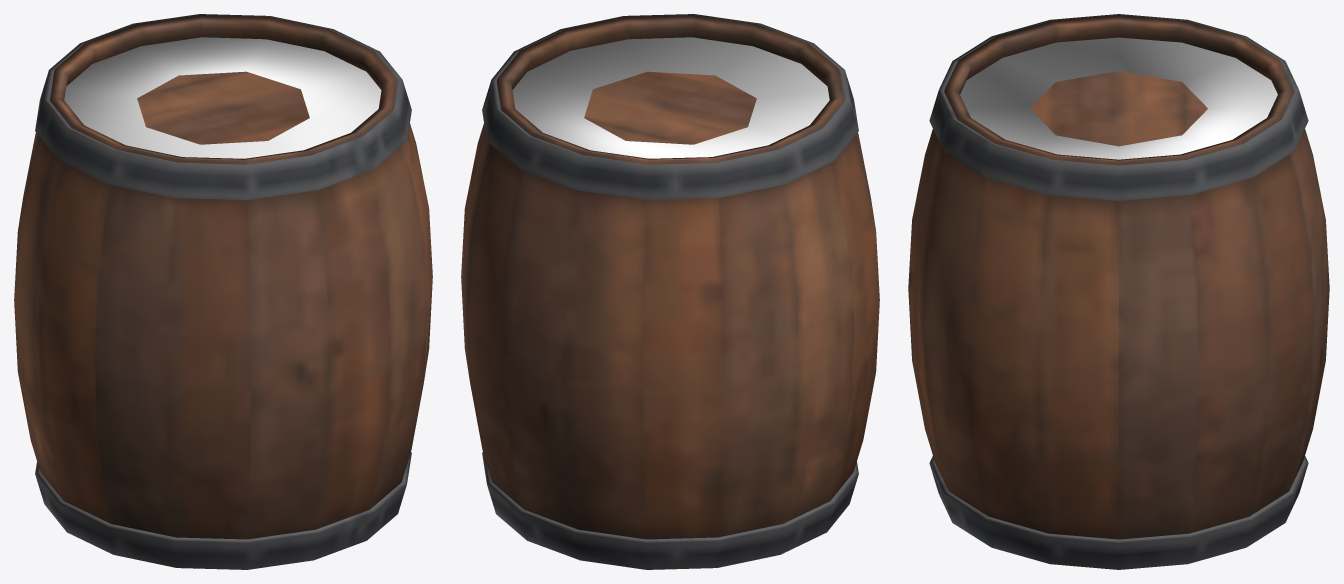
The model's file is objects_un_barrel01.gltf.
3 renders of one model, left to right at view 1: azimuth 30°, elevation 25°; view 2: azimuth 150°, elevation 25°; view 3: azimuth 270°, elevation 25°, orthographic.
Parts seen in each view (by area): view 1: um_objects_un_barrel01_model_lod0Shape:objects_un_barrel01_w, um_objects_un_barrel01_model_lod0Shape:objects_un_barrel01_s; view 2: um_objects_un_barrel01_model_lod0Shape:objects_un_barrel01_w, um_objects_un_barrel01_model_lod0Shape:objects_un_barrel01_s; view 3: um_objects_un_barrel01_model_lod0Shape:objects_un_barrel01_w, um_objects_un_barrel01_model_lod0Shape:objects_un_barrel01_s.
Boxes of the visible parts, x1,y1,x2,y2 form: um_objects_un_barrel01_model_lod0Shape:objects_un_barrel01_w: [14, 14, 432, 569]; um_objects_un_barrel01_model_lod0Shape:objects_un_barrel01_s: [64, 37, 381, 158]; um_objects_un_barrel01_model_lod0Shape:objects_un_barrel01_w: [461, 14, 879, 569]; um_objects_un_barrel01_model_lod0Shape:objects_un_barrel01_s: [512, 37, 829, 158]; um_objects_un_barrel01_model_lod0Shape:objects_un_barrel01_w: [908, 14, 1329, 569]; um_objects_un_barrel01_model_lod0Shape:objects_un_barrel01_s: [960, 37, 1277, 159].
Size of what is drawn, in the model's own units: 1.27 by 1.35 by 1.27.
Materials: 2 (1 with a texture image).
